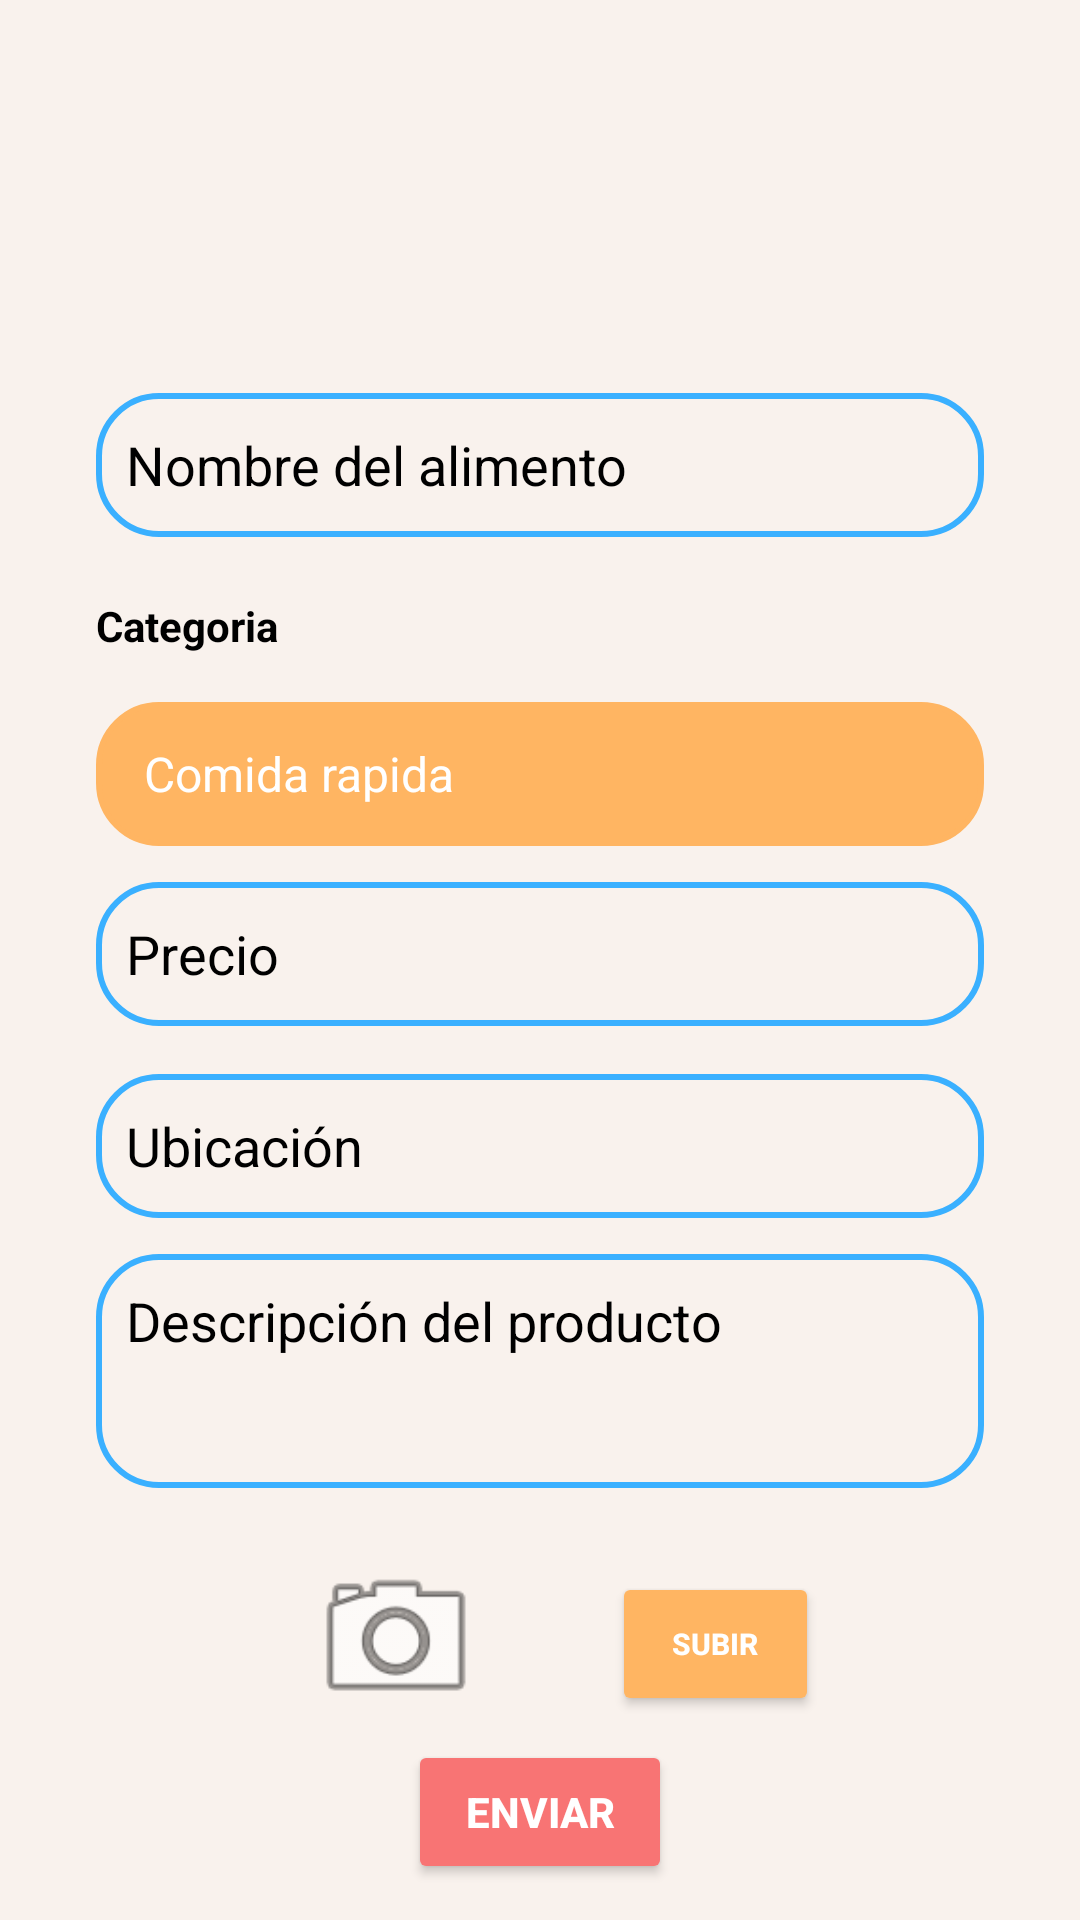

Icons on this 1080*1920 Android screen, each with its box as [x1=x1, y1=y1, x2=x2, y2=y2]:
camera: [x1=326, y1=1579, x2=466, y2=1691]
